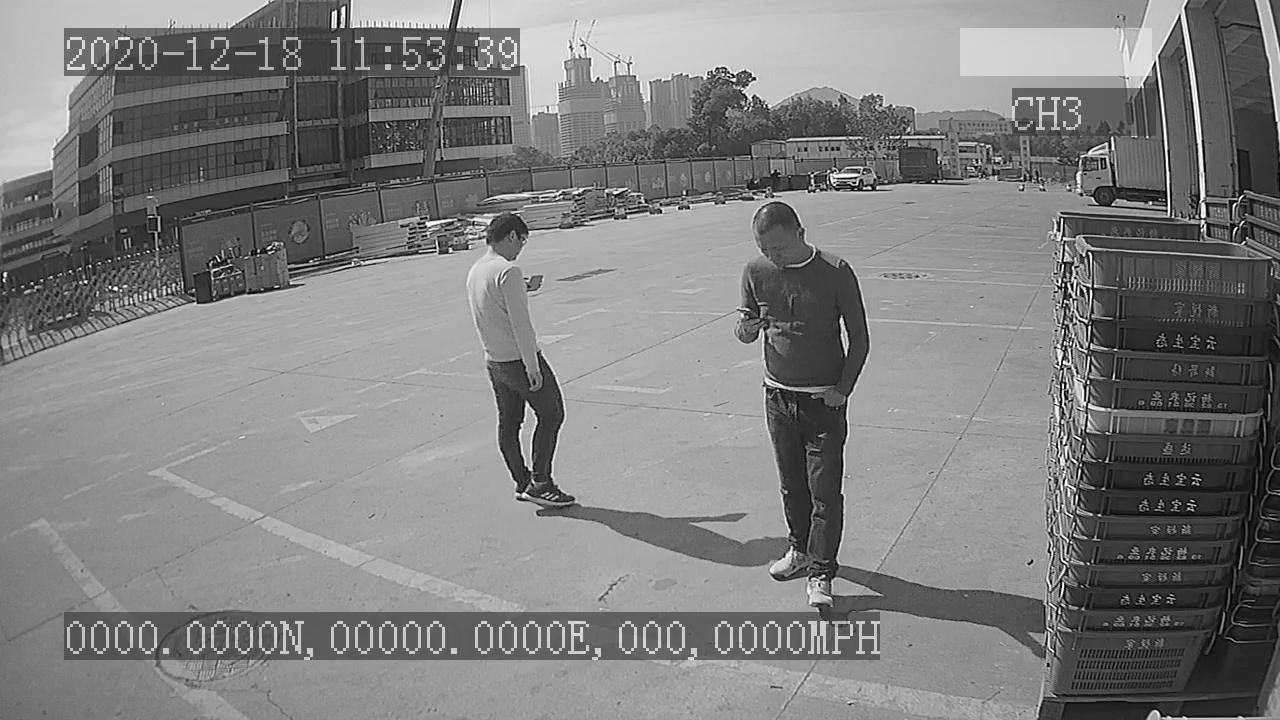person: (722, 192, 888, 608), (461, 206, 585, 520)
